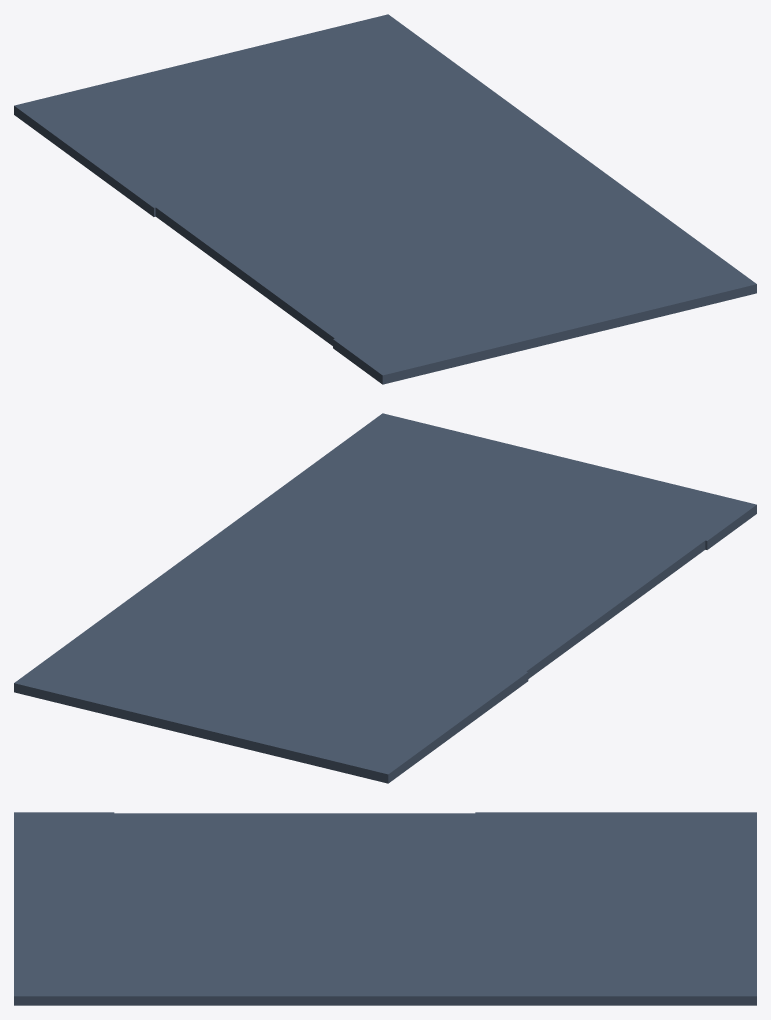
The model's file is floor_008_l_archive_a_floor_partition.obj.
3 views of the same model, one above another, from view 1: azimuth 30°, elevation 25°; view 2: azimuth 150°, elevation 25°; view 3: azimuth 270°, elevation 25° (orthographic).
Visible parts, largest first — view 1: Floor_008_l_archive_a_floor_partition; view 2: Floor_008_l_archive_a_floor_partition; view 3: Floor_008_l_archive_a_floor_partition.
Boxes of the visible parts, x1,y1,x2,y2 form: Floor_008_l_archive_a_floor_partition: (14, 14, 756, 384); Floor_008_l_archive_a_floor_partition: (14, 413, 756, 783); Floor_008_l_archive_a_floor_partition: (14, 812, 756, 1005).
Size of the model in its own units: 8.5 by 0.2 by 14.5.
